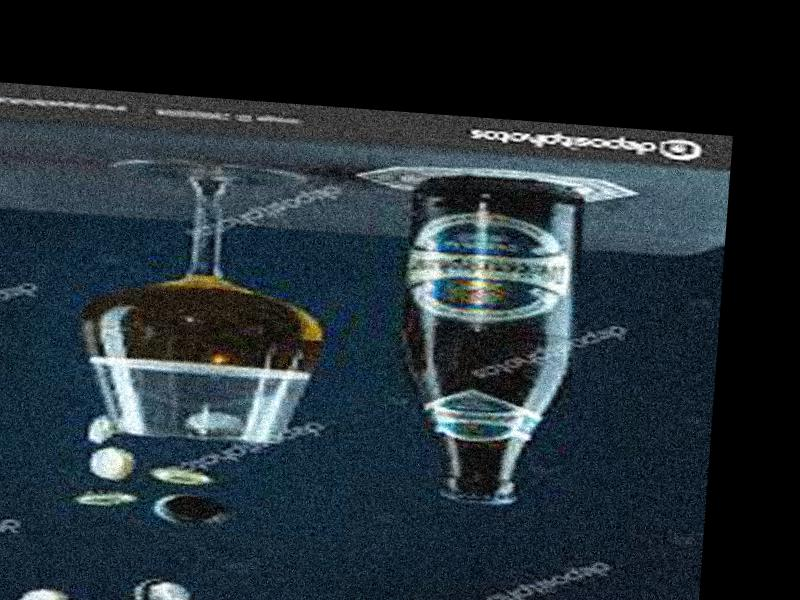Beer: (395, 176, 579, 506)
